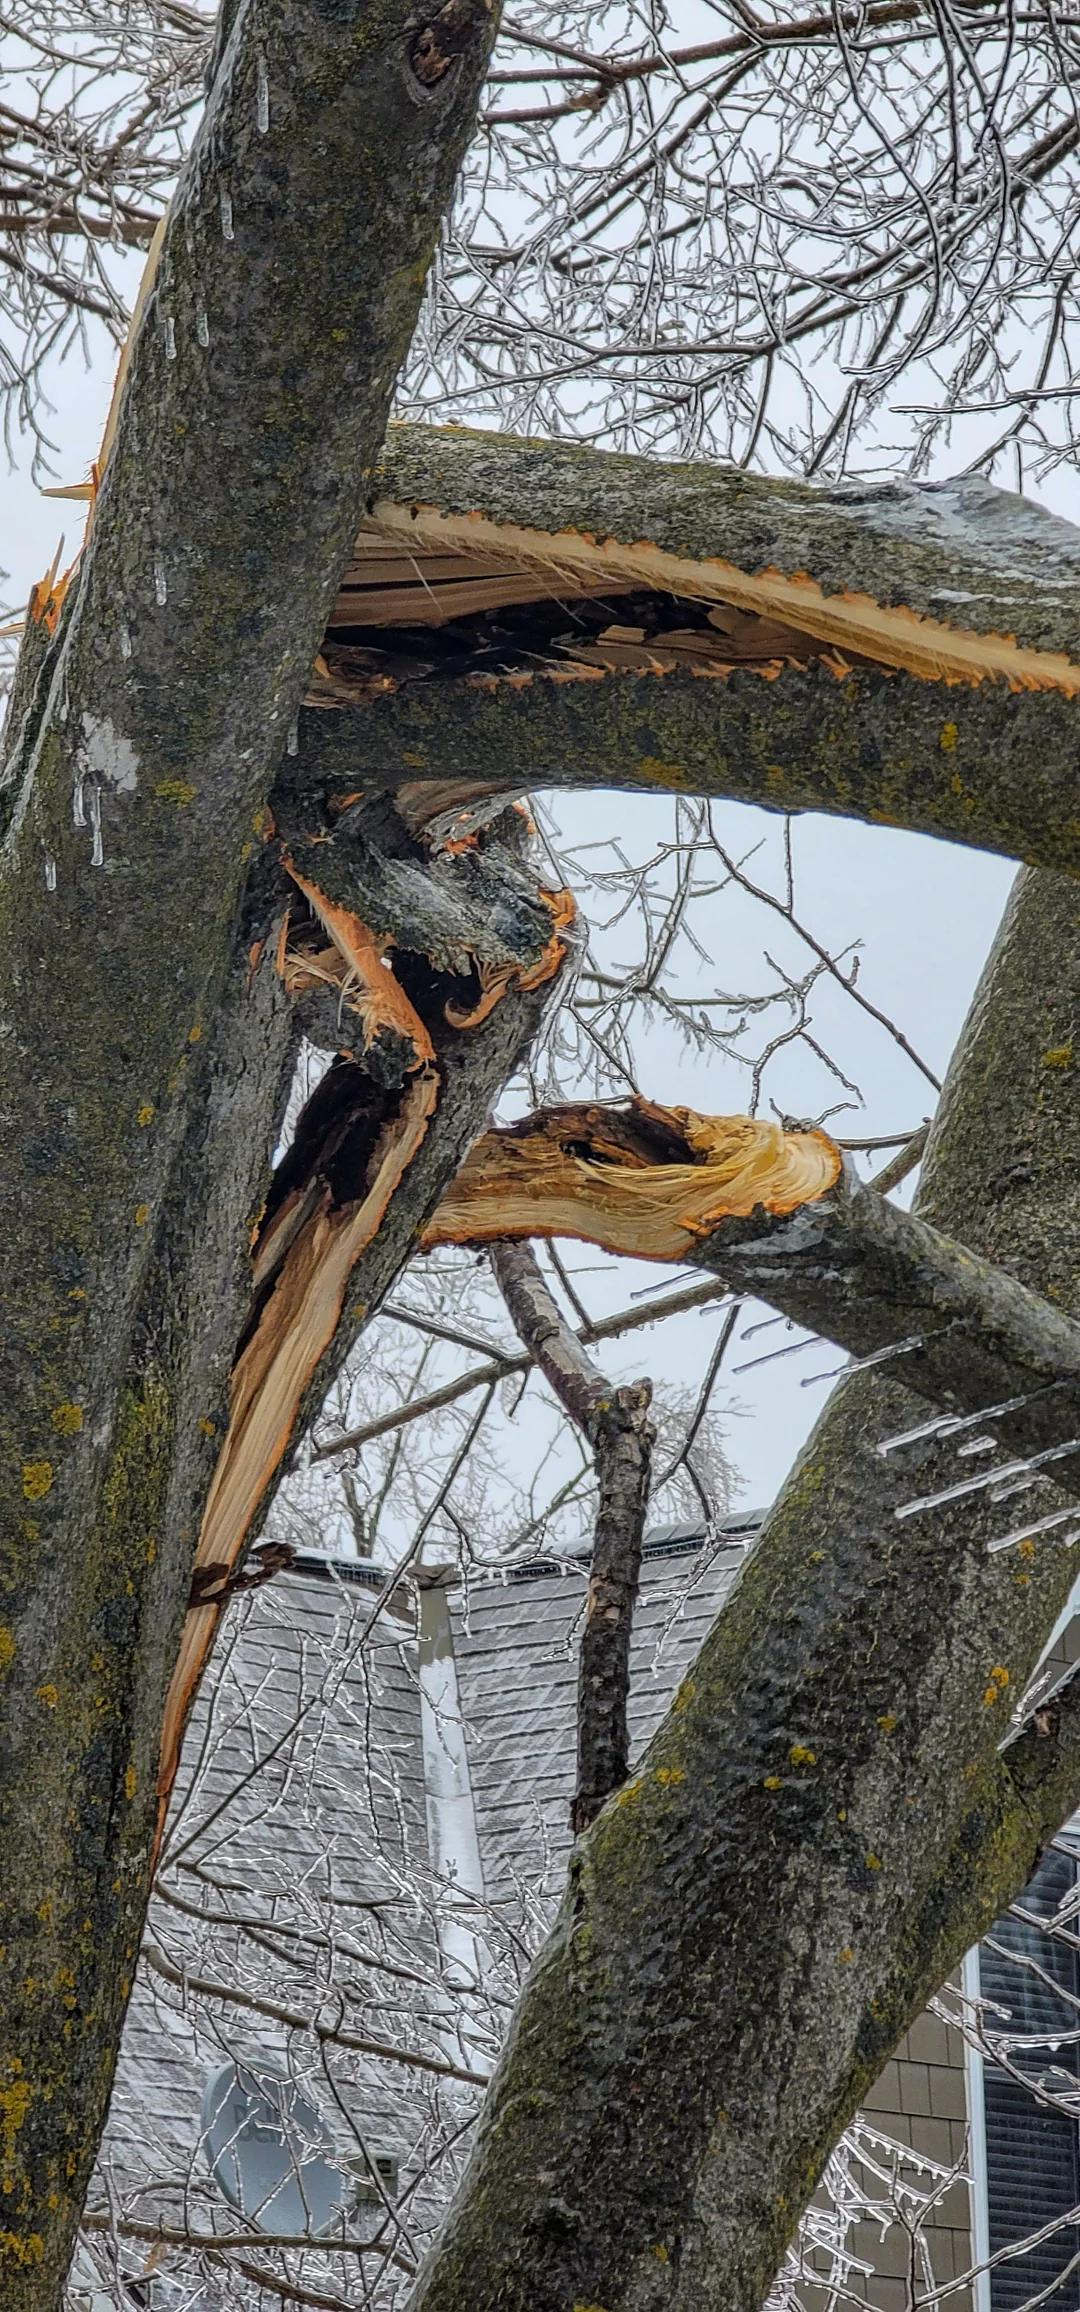mechanical damage: (369, 501, 1079, 696), (196, 1066, 437, 1570), (423, 1097, 840, 1261), (329, 516, 590, 628), (446, 891, 575, 1029), (161, 1629, 201, 1792)
